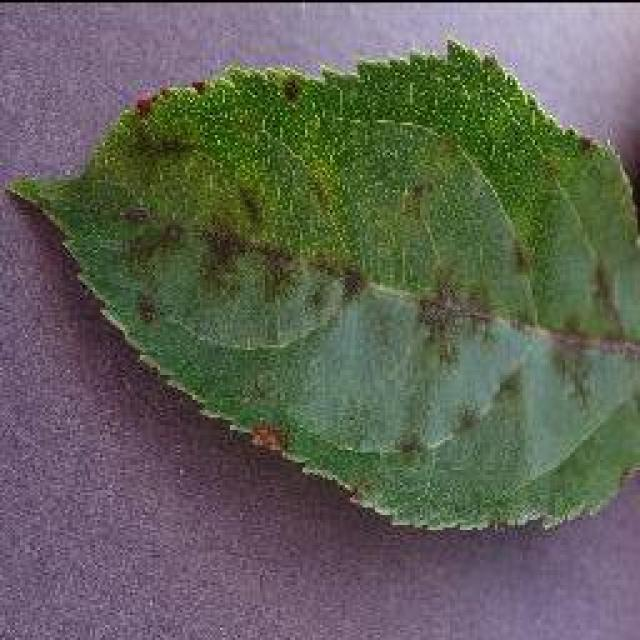Apple___Apple_scab: (0, 34, 638, 533)
